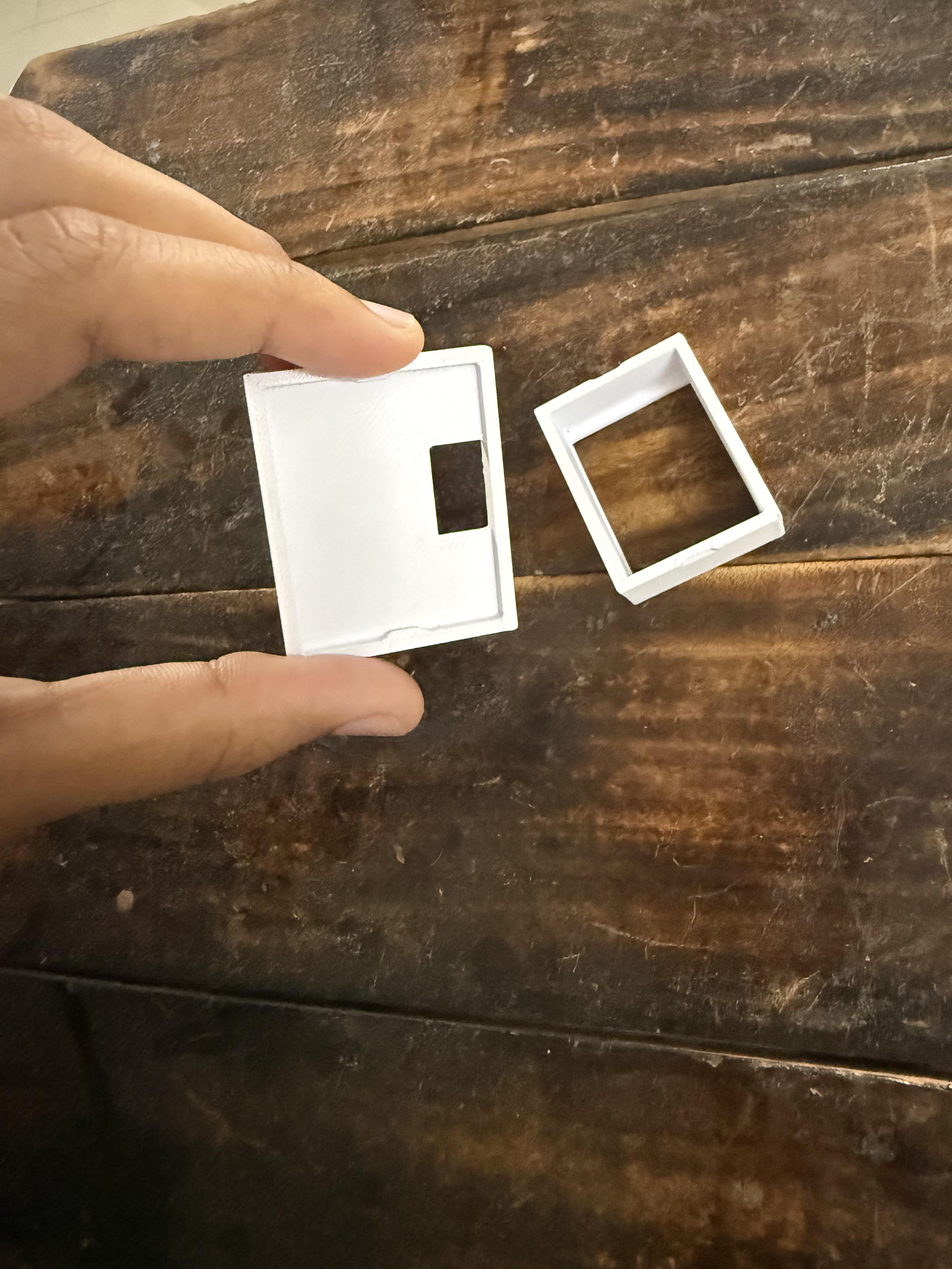enclosure: (243, 345, 519, 657), (534, 333, 786, 605)
